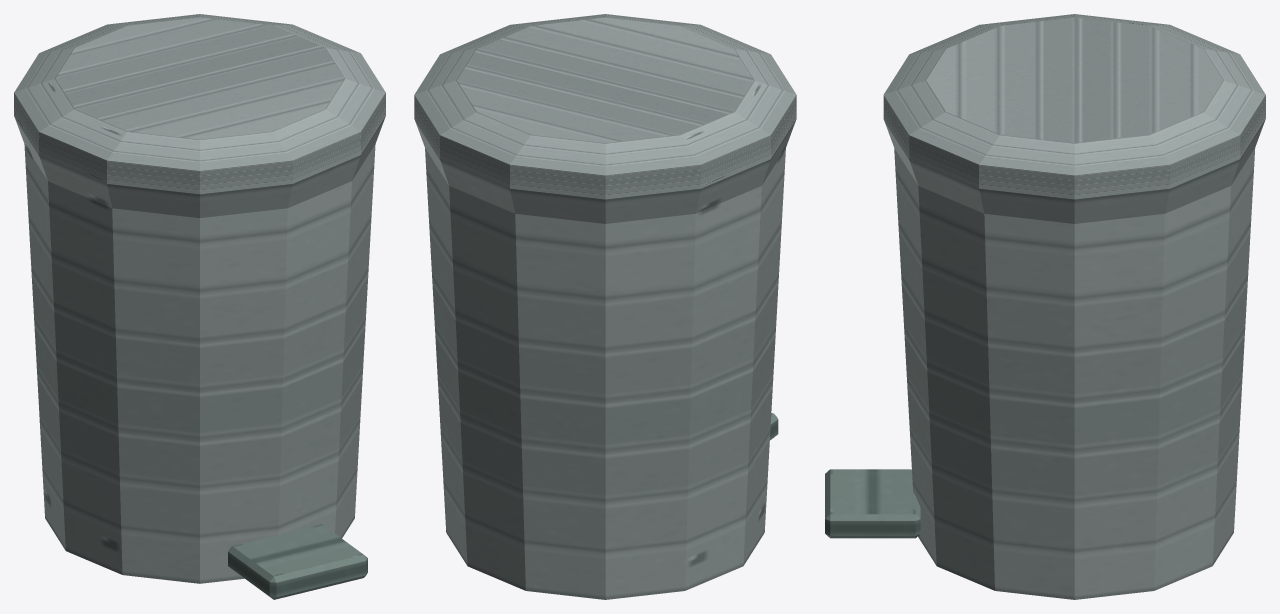
Rendered from MD_70_PedalBin.fbx.
3 renders of one model, left to right at view 1: azimuth 30°, elevation 25°; view 2: azimuth 150°, elevation 25°; view 3: azimuth 270°, elevation 25°, orthographic. The views are drawn at different scales.
Visible parts, largest first — view 1: MD_70_PedalBin_pedal_bin_body, MD_70_PedalBin_separate_bin_lid, MD_70_PedalBin_pedal; view 2: MD_70_PedalBin_pedal_bin_body, MD_70_PedalBin_separate_bin_lid; view 3: MD_70_PedalBin_pedal_bin_body, MD_70_PedalBin_separate_bin_lid, MD_70_PedalBin_pedal.
Part boxes in pixels (x1,y1,x2,y2): MD_70_PedalBin_pedal_bin_body: (14, 117, 385, 583); MD_70_PedalBin_separate_bin_lid: (14, 14, 385, 194); MD_70_PedalBin_pedal: (228, 524, 367, 599); MD_70_PedalBin_pedal_bin_body: (414, 119, 796, 599); MD_70_PedalBin_separate_bin_lid: (414, 14, 796, 199); MD_70_PedalBin_pedal_bin_body: (884, 120, 1265, 599); MD_70_PedalBin_separate_bin_lid: (883, 14, 1265, 199); MD_70_PedalBin_pedal: (825, 469, 920, 538).
Size of the model in its own units: 0.36 by 0.47 by 0.415.
Materials: 2 (2 with a texture image).
